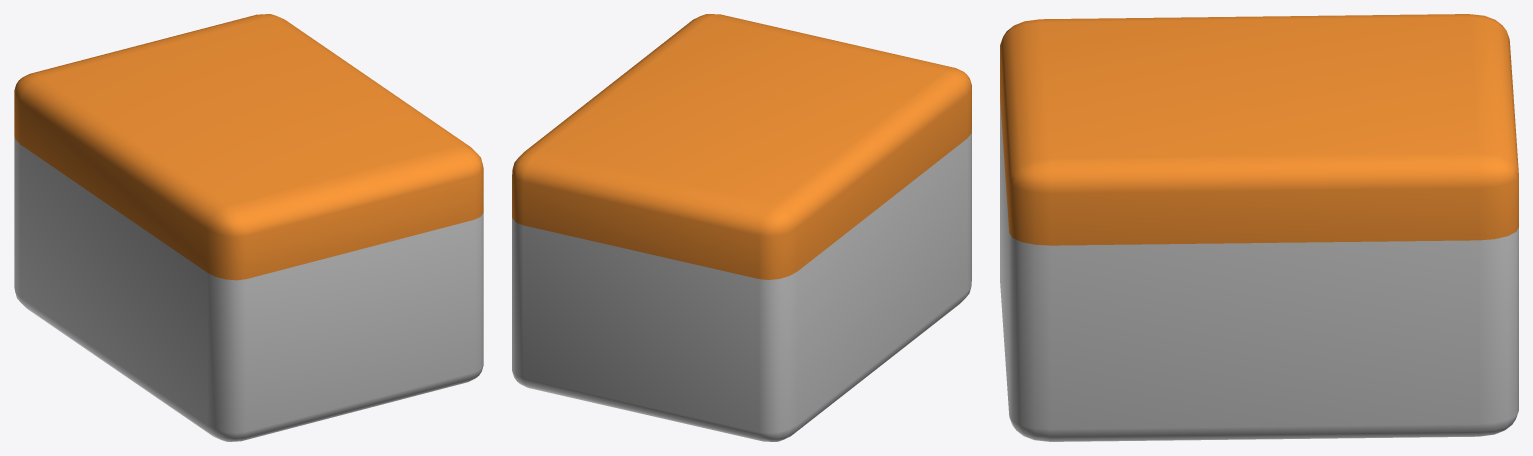
File: MahjongTiles.fbx
The picture shows the model from 3 angles, left to right: view 1: azimuth 30°, elevation 25°; view 2: azimuth 150°, elevation 25°; view 3: azimuth 270°, elevation 25°; orthographic projection. The views are drawn at different scales.
Parts seen in each view (by area): view 1: 一つver; view 2: 一つver; view 3: 一つver.
Part boxes in pixels (box(x1,y1,x2,y2)): 一つver: box(14, 14, 483, 441); 一つver: box(512, 14, 971, 441); 一つver: box(1000, 14, 1518, 441).
Bounding box in the file's own units: 15.75 × 12.36 × 20.71.
